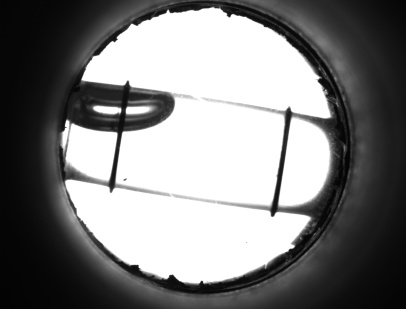line: (268, 129, 292, 198), (107, 140, 126, 174)
